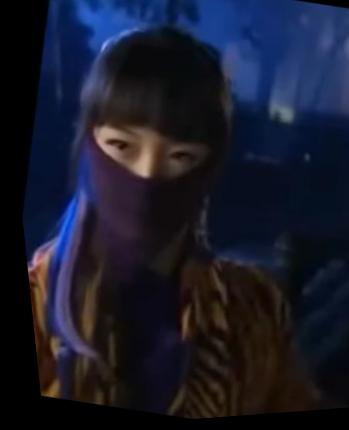WRONG: (63, 103, 225, 263)
